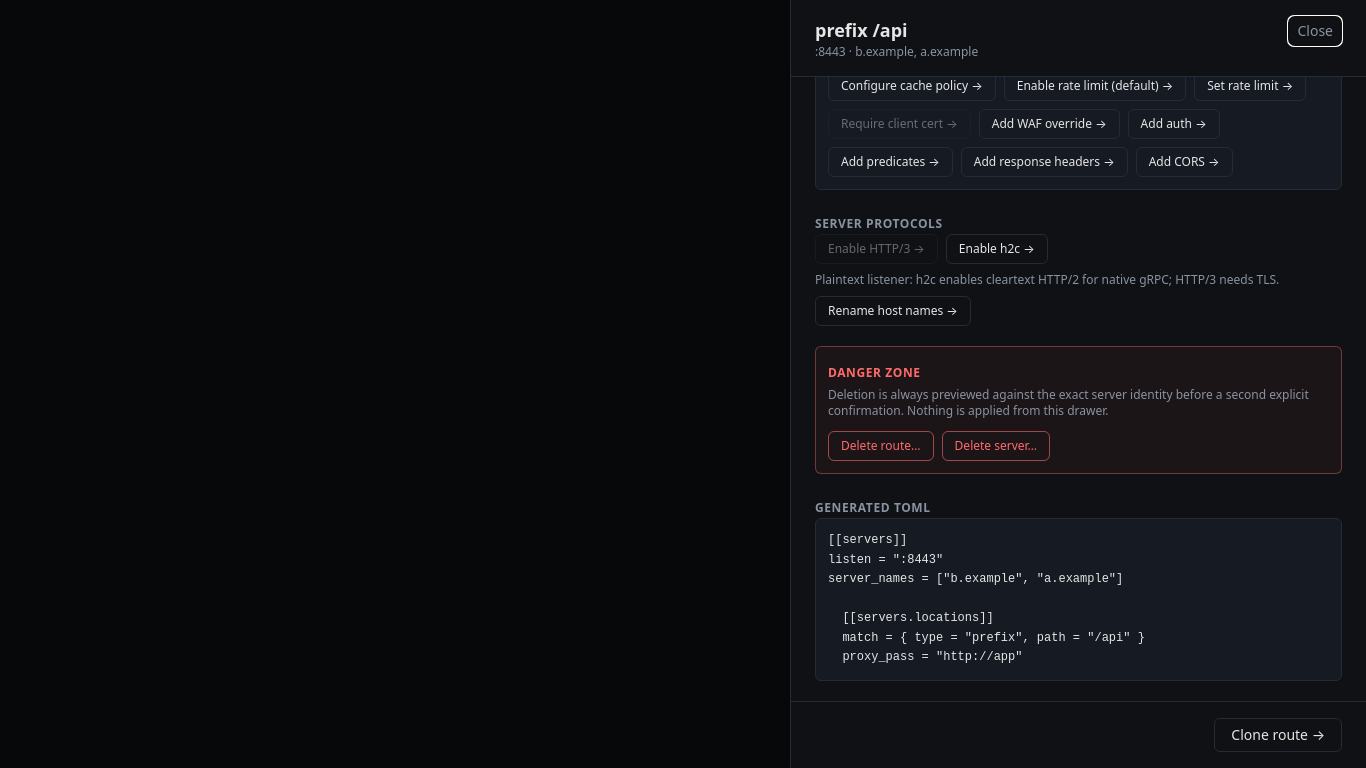
Test: RouteDetail destructive route workflows › disables confirmation when the preview lacks lifecycle classification
(page scrolled)
Click the button with aria-label "Delete route prefix /api": (881, 446) top-left (828, 431), bottom-right (934, 461)
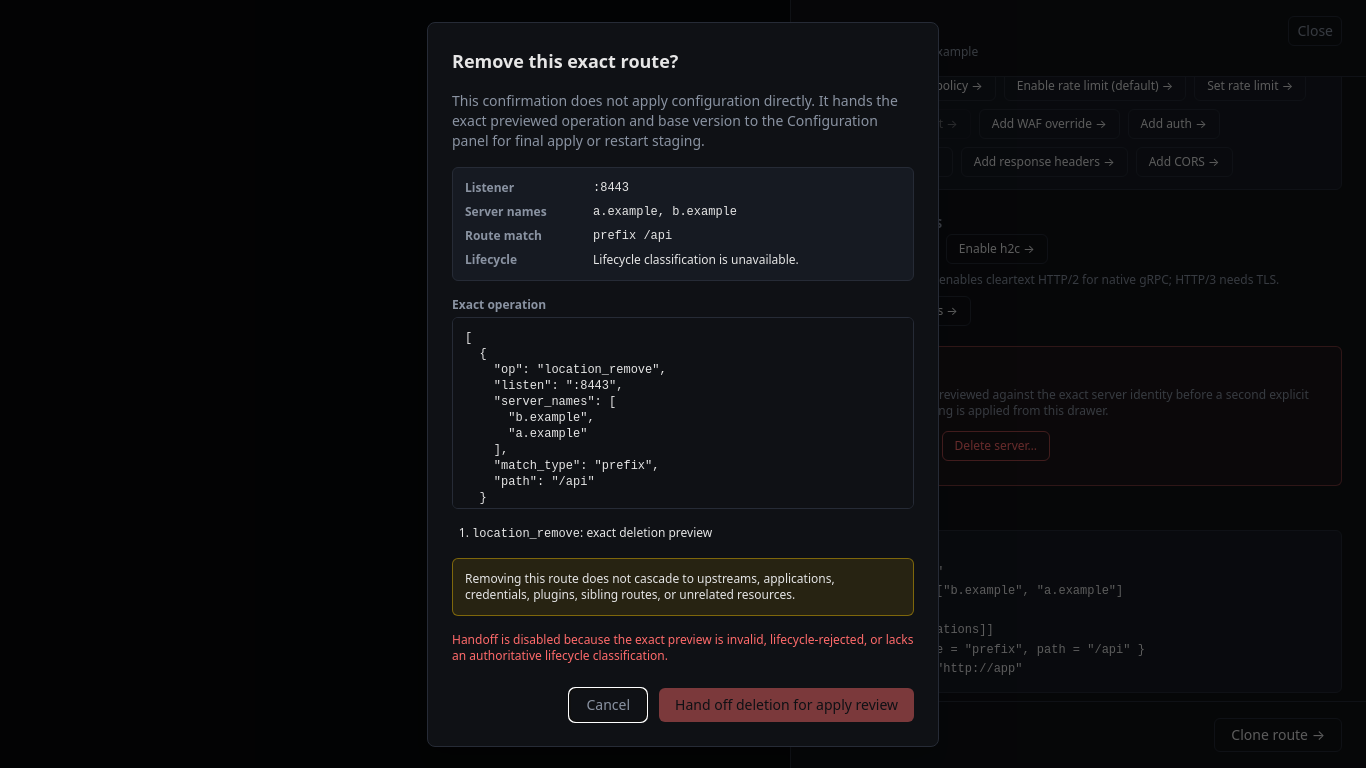
Now the button "Hand off deletion for apply review" is disabled, box top-left (659, 688), bottom-right (914, 722)
Now the text "lacks an authoritative lifecycle" is shown, box top-left (452, 630), bottom-right (914, 664)
